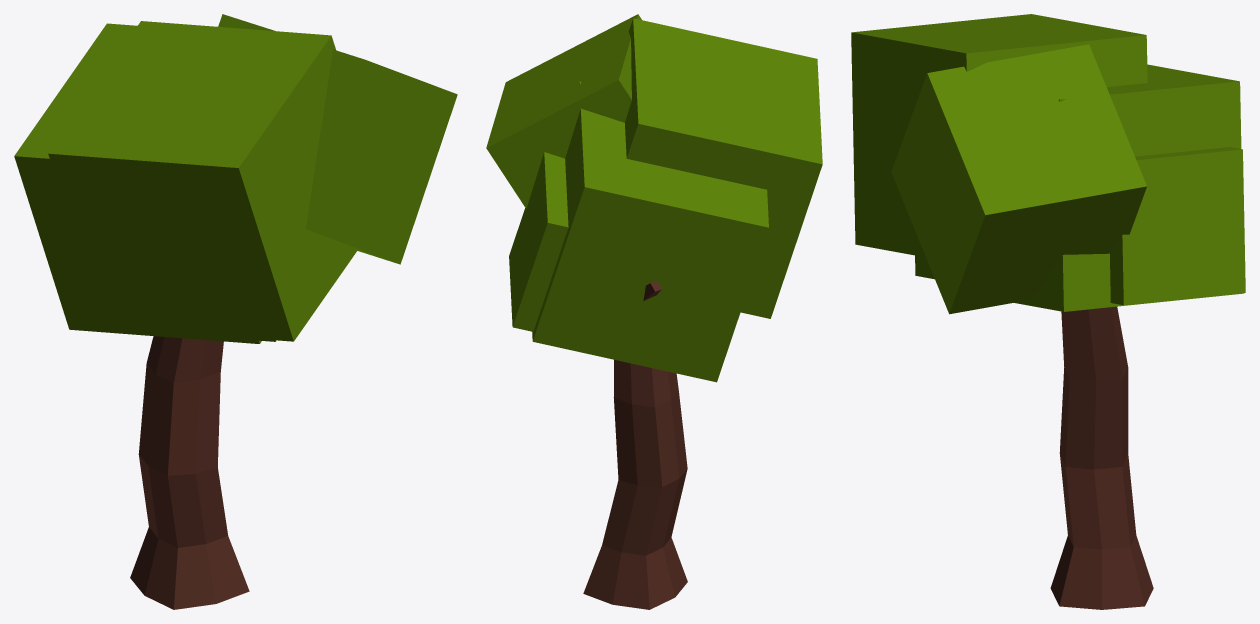
File: Tree.glb
3 views of the same model, side by side, from view 1: azimuth 30°, elevation 25°; view 2: azimuth 150°, elevation 25°; view 3: azimuth 270°, elevation 25° (orthographic). The views are drawn at different scales.
Visible parts, largest first — view 1: Leaves, Log; view 2: Leaves, Log; view 3: Leaves, Log.
Part boxes in pixels (x1,y1,x2,y2): Leaves: [14, 14, 457, 343]; Log: [130, 336, 249, 609]; Leaves: [486, 14, 822, 382]; Log: [583, 281, 687, 609]; Leaves: [851, 14, 1245, 314]; Log: [1050, 306, 1153, 609].
Size of the model in its own units: 9.61 by 13.86 by 8.7.
